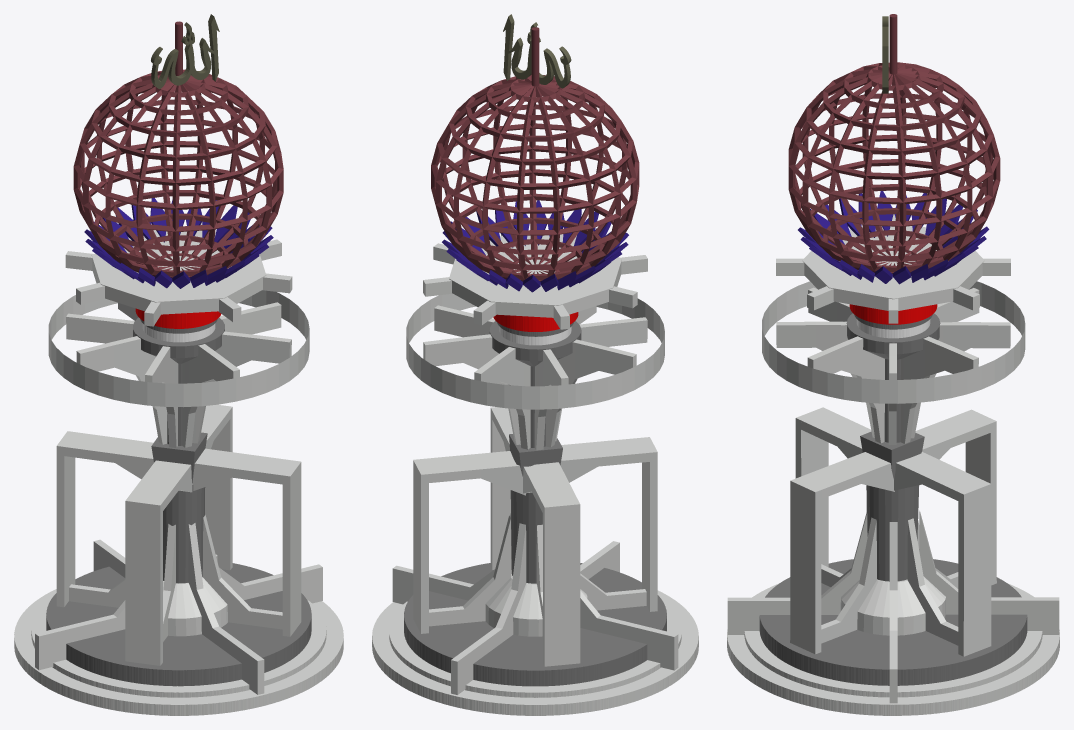
The model's file is Tugu-Asmaul-Husna.glb.
3 views of the same model, side by side, from view 1: azimuth 30°, elevation 25°; view 2: azimuth 150°, elevation 25°; view 3: azimuth 270°, elevation 25° (orthographic).
Parts seen in each view (by area): view 1: Sphere, Plane.002, Circle.002, Plane.003, Circle.003, Circle, Plane, Cylinder.002, Circle.001, Plane.001, Cube.003, Cube (+6 smaller); view 2: Sphere, Plane.002, Circle.002, Plane.003, Circle.003, Circle, Plane, Cylinder.002, Circle.001, Plane.001, Cube.003, Cube (+7 smaller); view 3: Sphere, Plane.002, Circle.002, Plane.003, Circle.003, Plane, Circle, Cylinder.002, Plane.001, Cube, Circle.001, Cube.003 (+7 smaller).
Part boxes in pixels (<box>): Sphere: <box>73,69,283,278</box>; Plane.002: <box>56,404,301,665</box>; Circle.002: <box>46,563,311,686</box>; Plane.003: <box>66,302,291,447</box>; Circle.003: <box>48,290,309,407</box>; Circle: <box>14,589,343,715</box>; Plane: <box>35,523,322,694</box>; Cylinder.002: <box>91,230,266,314</box>; Circle.001: <box>31,599,326,697</box>; Plane.001: <box>69,515,282,641</box>; Cube.003: <box>84,198,273,288</box>; Cube: <box>151,432,207,583</box>; Sphere: <box>431,75,639,281</box>; Plane.002: <box>413,407,657,666</box>; Circle.002: <box>404,563,666,686</box>; Plane.003: <box>423,305,647,450</box>; Circle.003: <box>406,293,664,409</box>; Circle: <box>372,590,698,715</box>; Plane: <box>392,513,678,694</box>; Cylinder.002: <box>449,235,621,317</box>; Circle.001: <box>389,600,681,697</box>; Plane.001: <box>429,515,646,636</box>; Cube.003: <box>442,200,628,292</box>; Cube: <box>509,434,562,583</box>; Sphere: <box>788,62,1000,273</box>; Plane.002: <box>790,407,996,656</box>; Circle.002: <box>759,559,1027,685</box>; Plane.003: <box>776,287,1010,444</box>; Circle.003: <box>762,281,1025,403</box>; Plane: <box>727,510,1059,703</box>; Circle: <box>727,583,1059,715</box>; Cylinder.002: <box>802,226,984,310</box>; Plane.001: <box>821,517,958,645</box>; Cube: <box>860,431,924,581</box>; Circle.001: <box>744,631,1042,697</box>; Cube.003: <box>798,191,989,284</box>.
Size of the model in its own units: 2.73 by 5.73 by 2.73.
